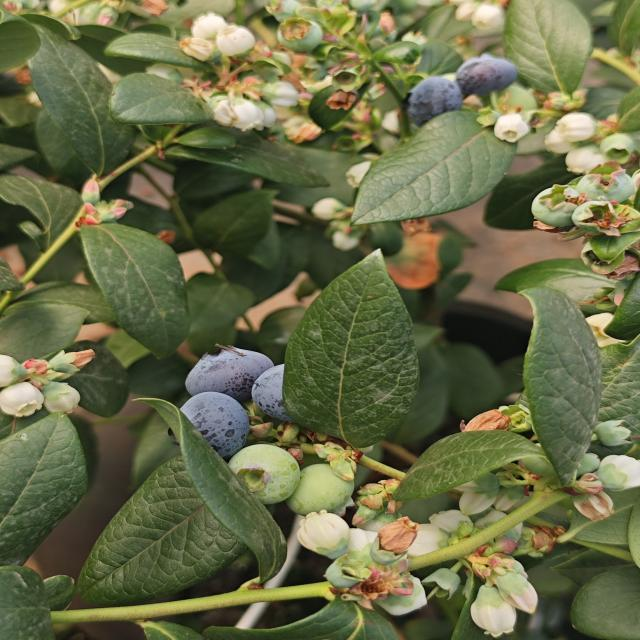ripe: (170, 390, 262, 460), (182, 346, 272, 401), (246, 365, 326, 422), (400, 75, 466, 125), (455, 50, 519, 98)
